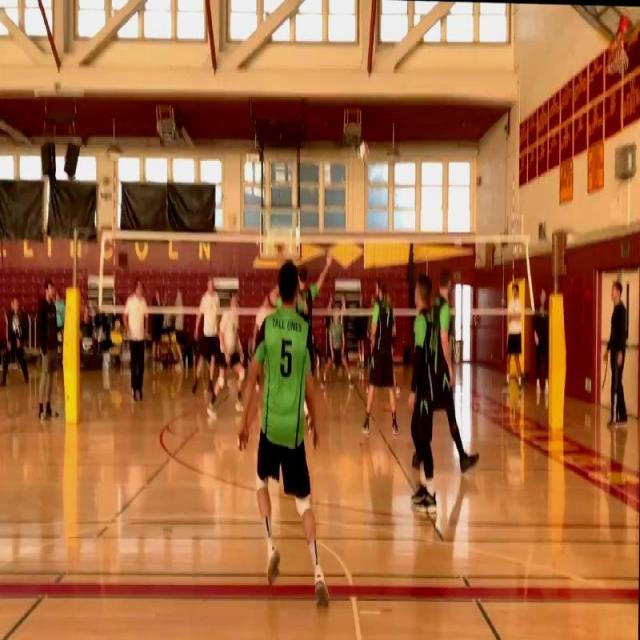volleyball: (358, 140, 369, 160)
